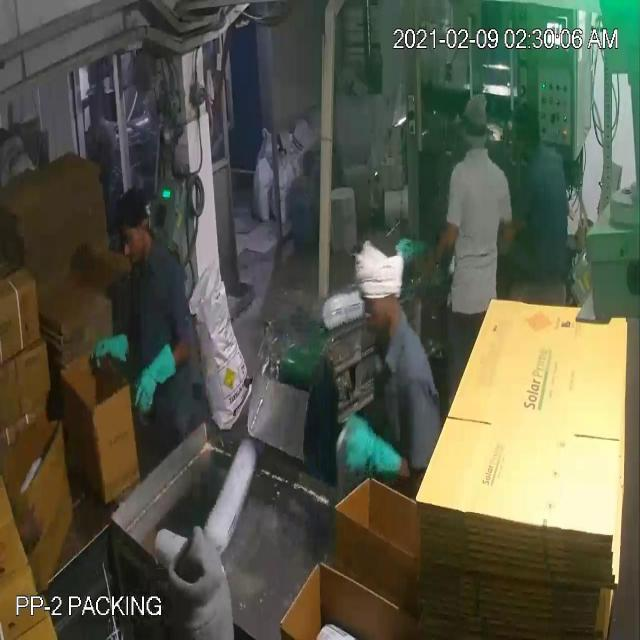Gloves: (50, 65, 436, 446)
